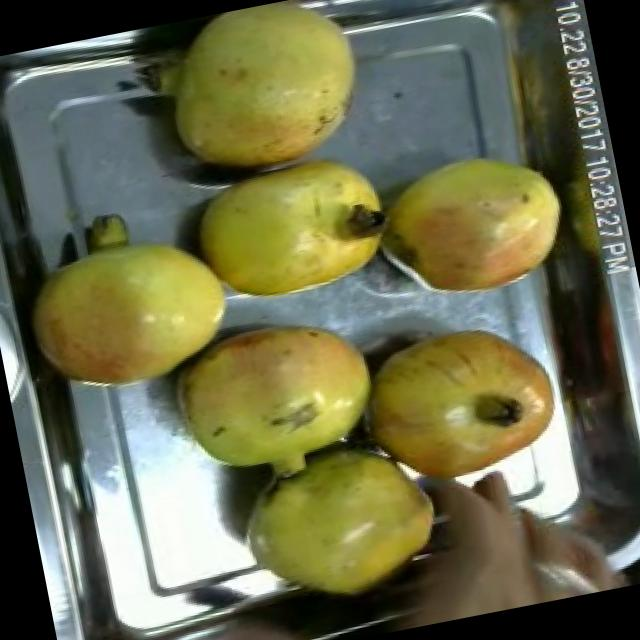fruit: (0, 170, 260, 422), (160, 116, 420, 330), (337, 297, 588, 514), (147, 294, 403, 504), (216, 418, 468, 618), (350, 132, 580, 321)
